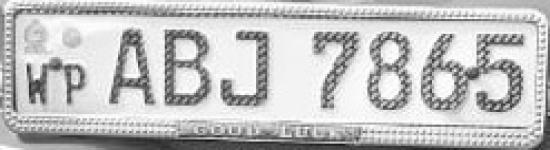5: (473, 26, 527, 119)
6: (417, 28, 473, 116)
7: (307, 27, 365, 113)
8: (364, 27, 416, 113)
A: (105, 21, 160, 108)
B: (158, 25, 216, 108)
J: (215, 25, 278, 113)
P: (60, 58, 90, 108)
W: (20, 59, 54, 110)
